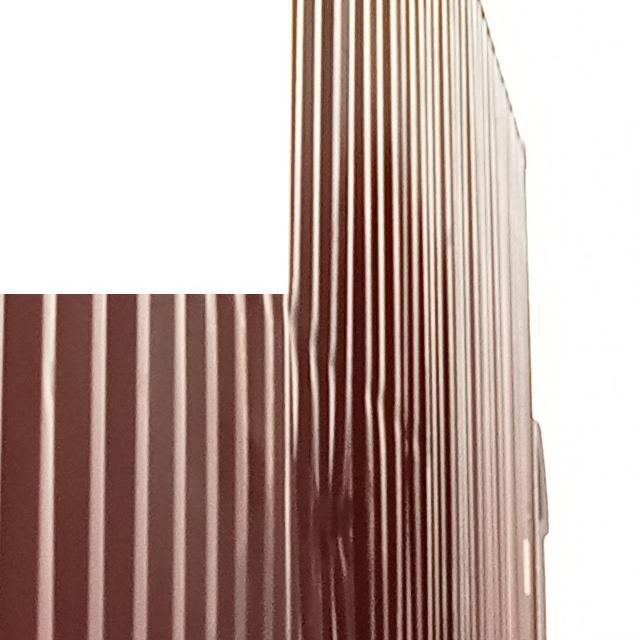dent: (289, 309, 433, 453), (285, 453, 379, 640)
